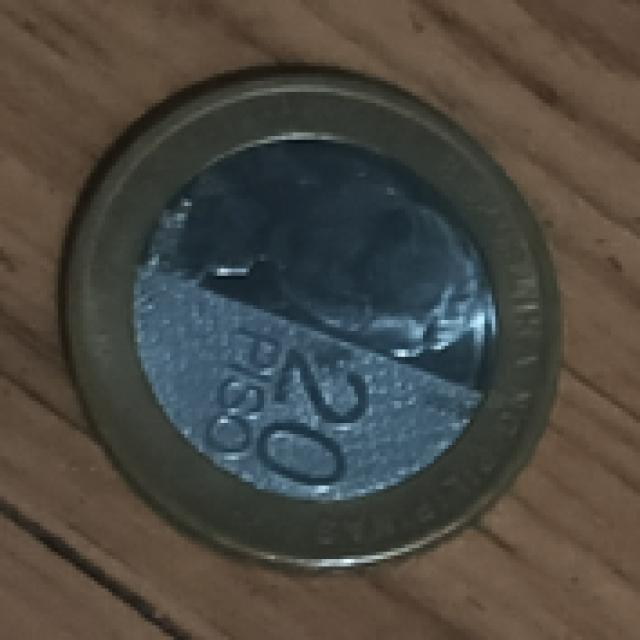20_peso: (69, 74, 557, 563)
